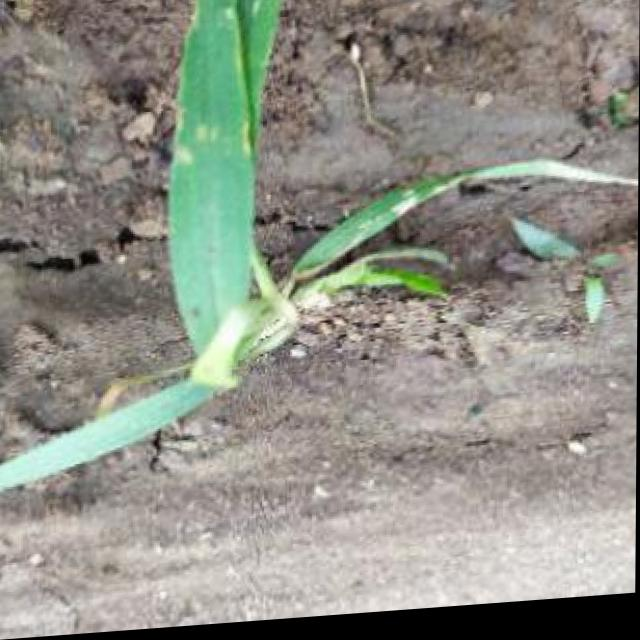weed: (82, 0, 528, 501)
